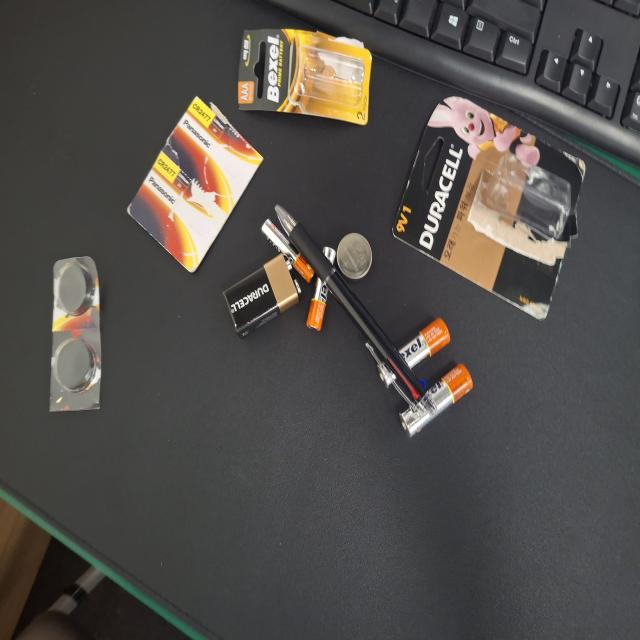9V: (226, 294, 291, 404)
AA: (151, 532, 209, 630), (189, 501, 246, 600)
AAA: (268, 348, 317, 420), (232, 408, 296, 448)
COIN: (271, 449, 305, 496)
